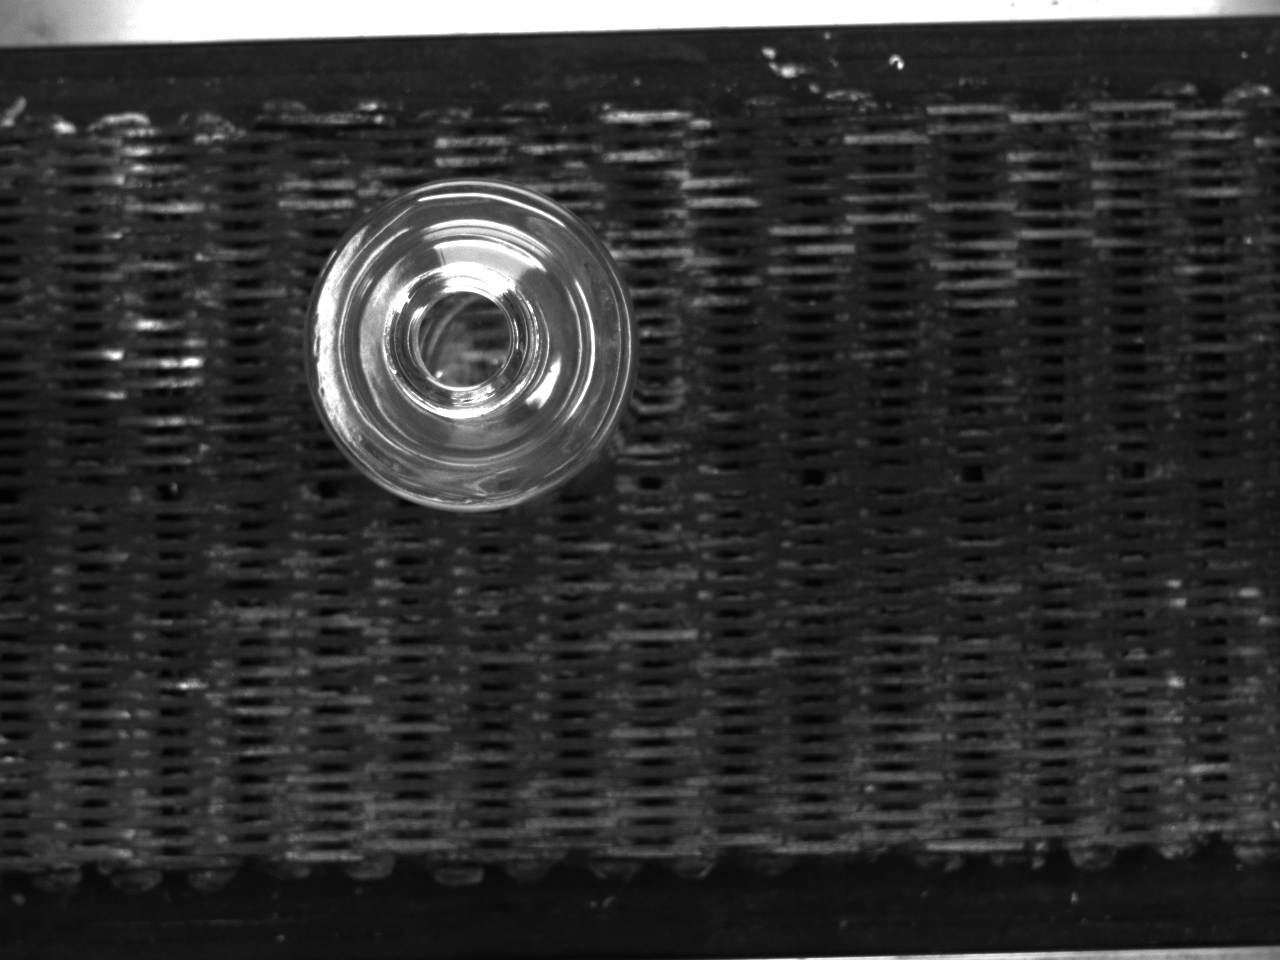bottleneck: (389, 264, 538, 415)
